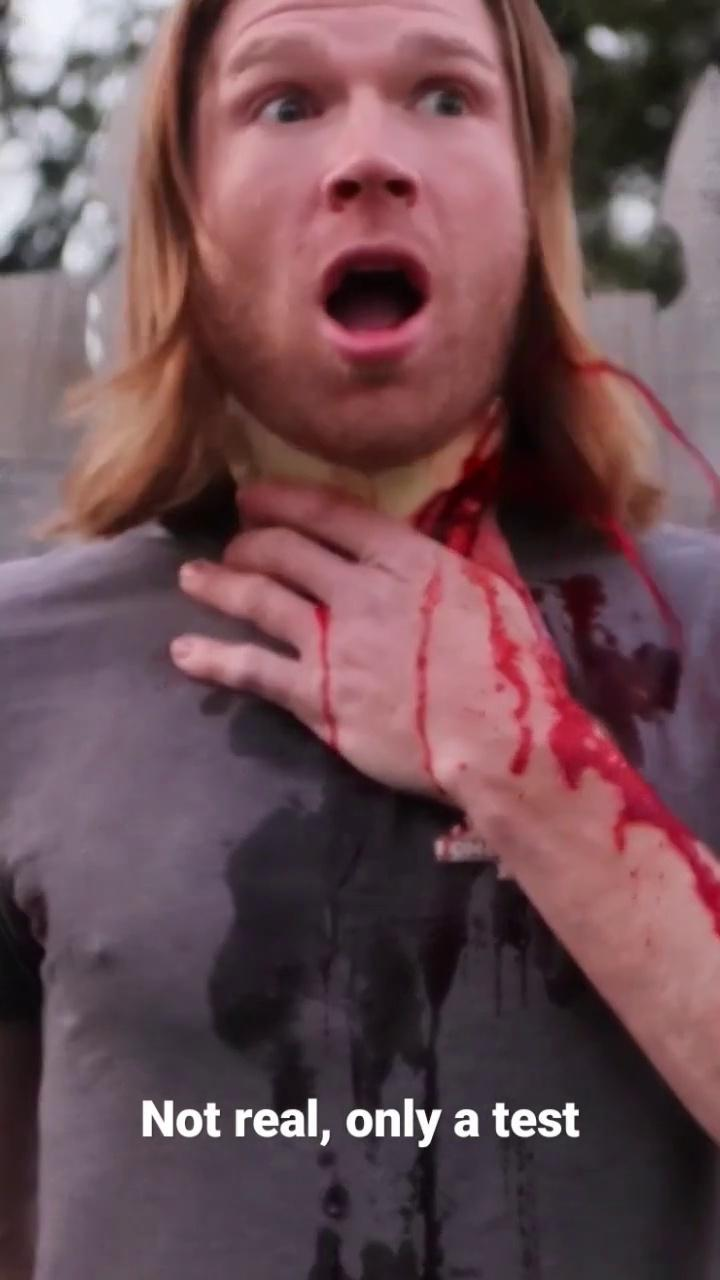Fire: (428, 513, 720, 932), (559, 574, 682, 768), (582, 359, 720, 518), (598, 517, 683, 652), (436, 405, 504, 556), (414, 565, 447, 798), (313, 602, 342, 754)
